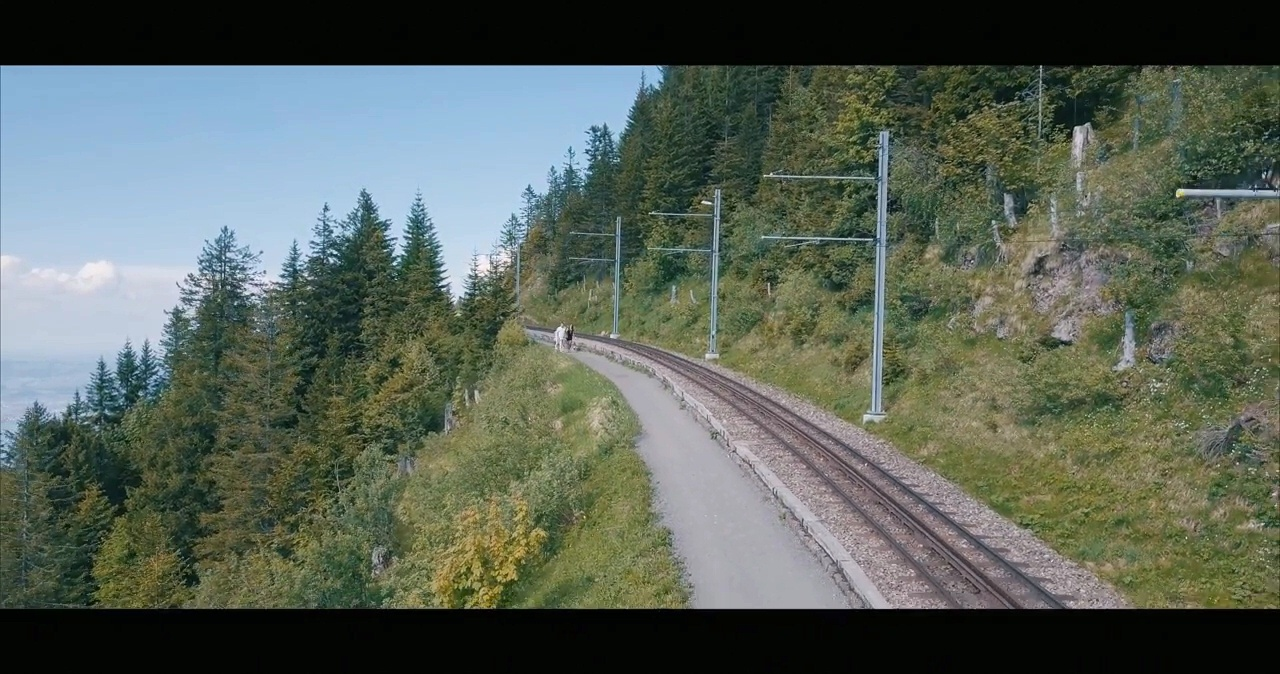insan: (551, 319, 568, 351), (566, 321, 576, 354)
